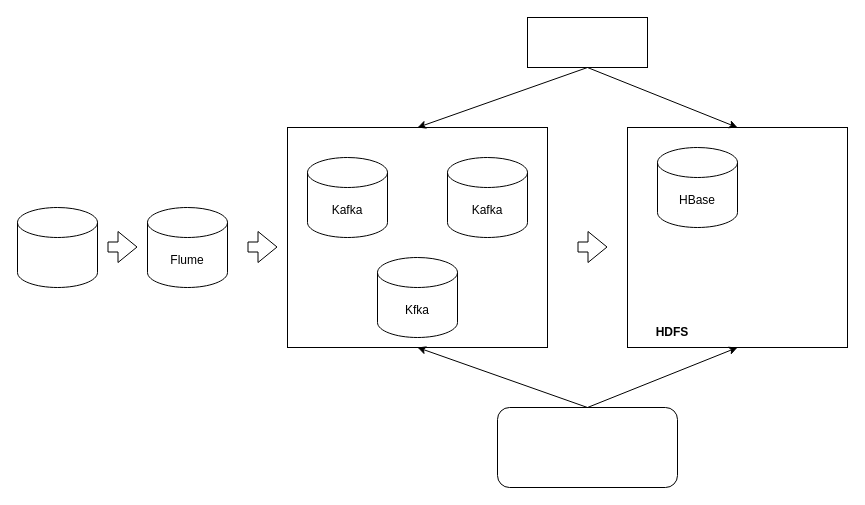
This 865x505 diagram has some shape labels left out. The centre of each missing label's shape, as x and y in pixels:
"Kafka-consumer hbase-client (java)" goes at (587,447).
"zookeeper" goes at (587,42).
"输入数据" goes at (57,247).
